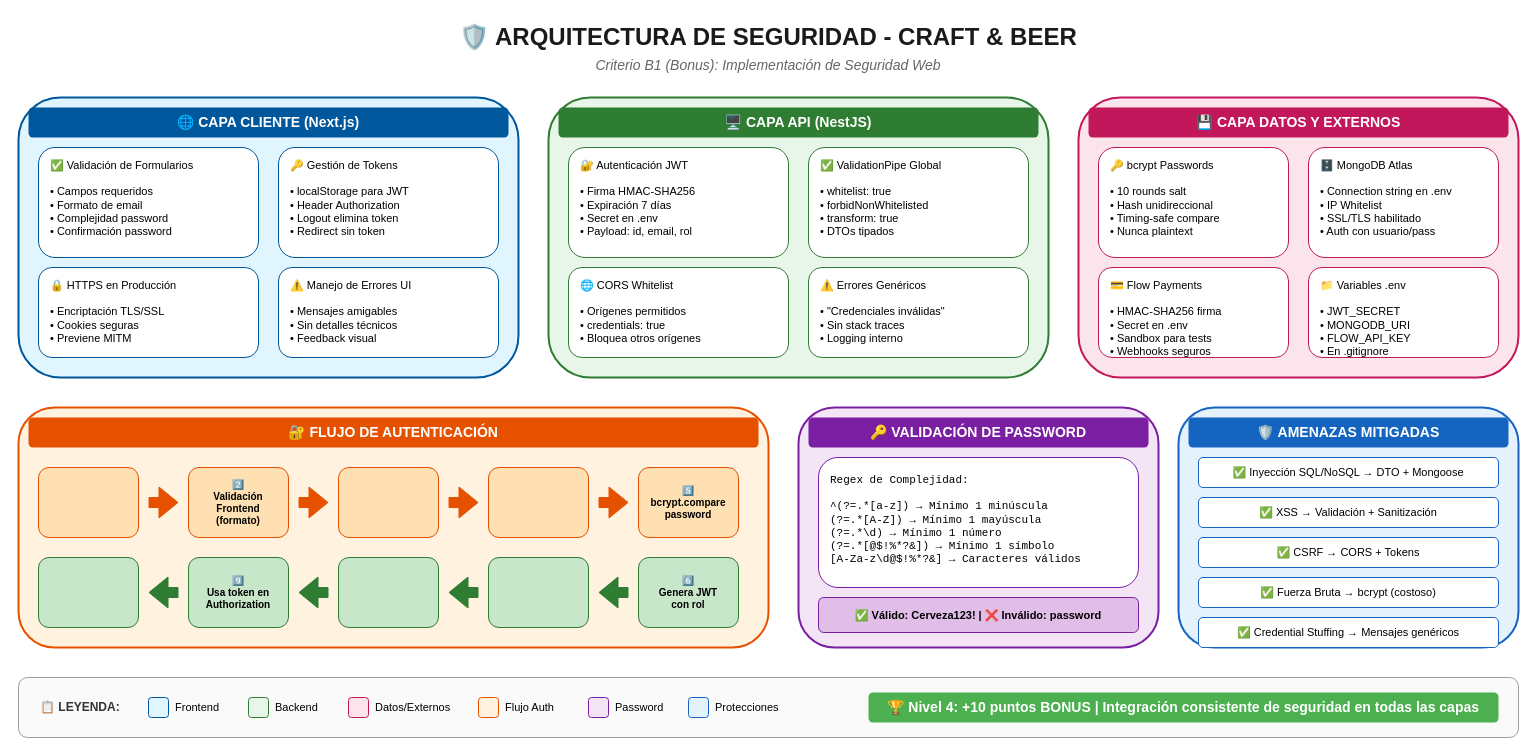
This 1536x755 diagram has some shape labels left out. Each missing label, with the box of its shape:
1️⃣ Usuario ingresa email + password: (38, 466, 138, 538)
3️⃣ POST /auth/login HTTPS: (338, 466, 438, 538)
4️⃣ ValidationPipe valida DTO: (488, 466, 588, 538)
7️⃣ Response: access_token: (488, 556, 588, 628)
8️⃣ Guarda token localStorage: (338, 556, 438, 628)
🔟 Acceso a rutas protegidas: (38, 556, 138, 628)
